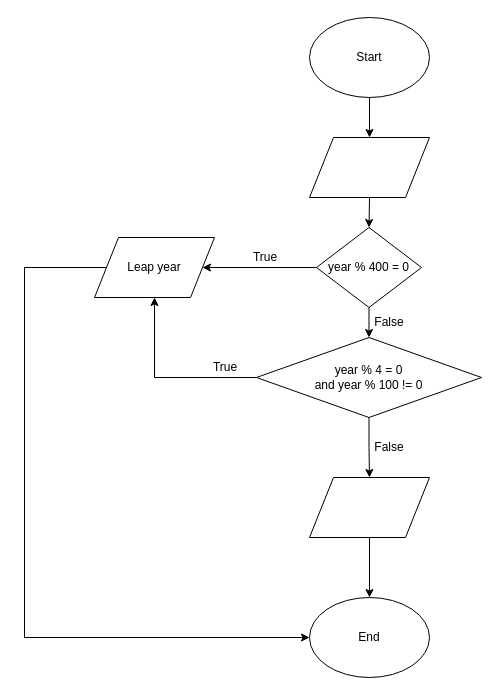
This 499x695 diagram has some shape labels left out. Each missing label, with the centre of its shape:
"Input year" goes at (x=369, y=167).
"Not leap year" goes at (x=369, y=507).
